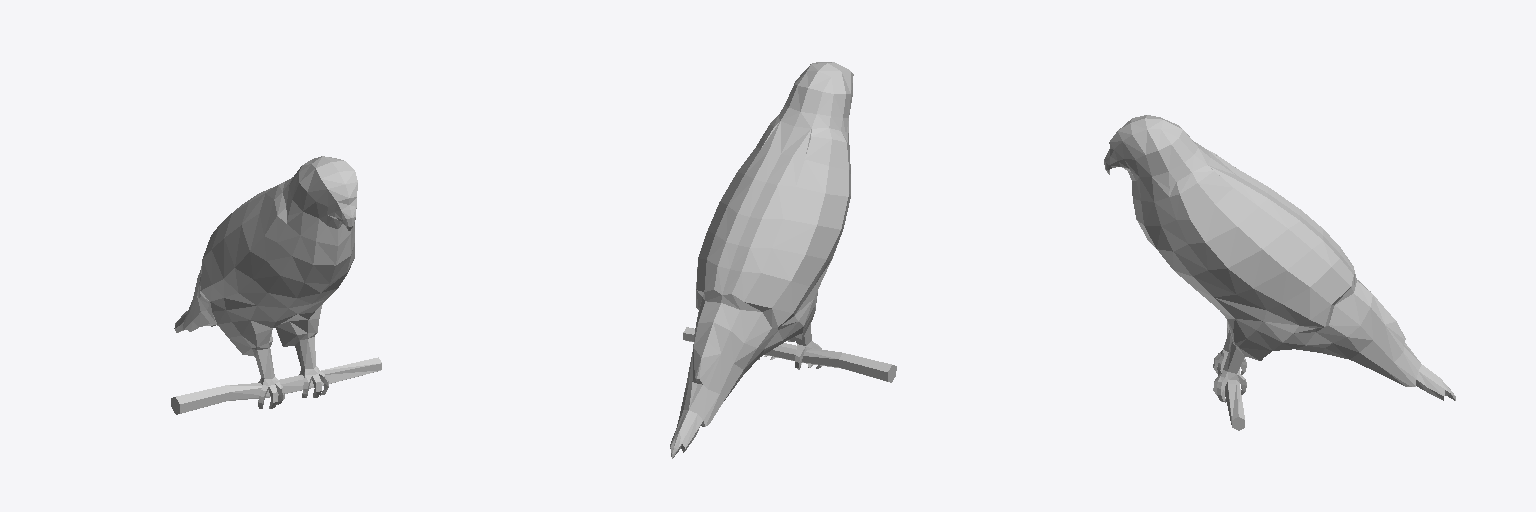
File: hawk.obj
3 views of the same model, side by side, from view 1: azimuth 30°, elevation 25°; view 2: azimuth 150°, elevation 25°; view 3: azimuth 270°, elevation 25° (orthographic).
Visible parts, largest first — view 1: FerruginousHawk_Mesh; view 2: FerruginousHawk_Mesh; view 3: FerruginousHawk_Mesh.
Part boxes in pixels (x1,y1,x2,y2): FerruginousHawk_Mesh: (171, 156, 381, 414); FerruginousHawk_Mesh: (670, 62, 896, 458); FerruginousHawk_Mesh: (1104, 115, 1455, 430).
Bounding box in the file's own units: 2.54 × 3.35 × 3.77.